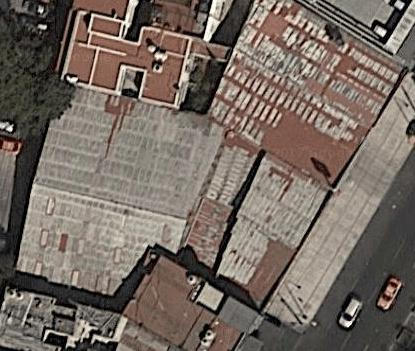parkingspot: (360, 242, 370, 255)
